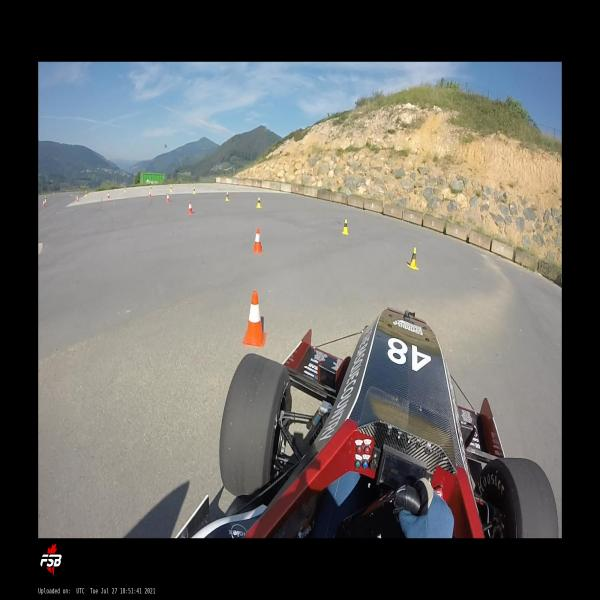orange_cone: (242, 290, 267, 347), (253, 228, 263, 252), (188, 201, 193, 214), (167, 193, 170, 203), (107, 192, 110, 199), (76, 196, 79, 202), (149, 191, 151, 197), (43, 201, 45, 207)
yellow_cone: (408, 247, 418, 270), (342, 219, 349, 235), (256, 197, 262, 208), (226, 192, 229, 201), (44, 195, 46, 203), (193, 187, 195, 194), (170, 185, 172, 192), (124, 186, 126, 192), (85, 190, 87, 196), (150, 186, 151, 192)
